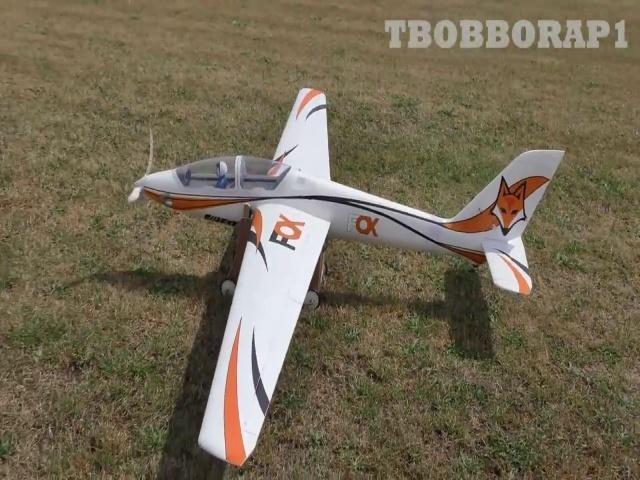Airplane: (127, 88, 565, 467)
